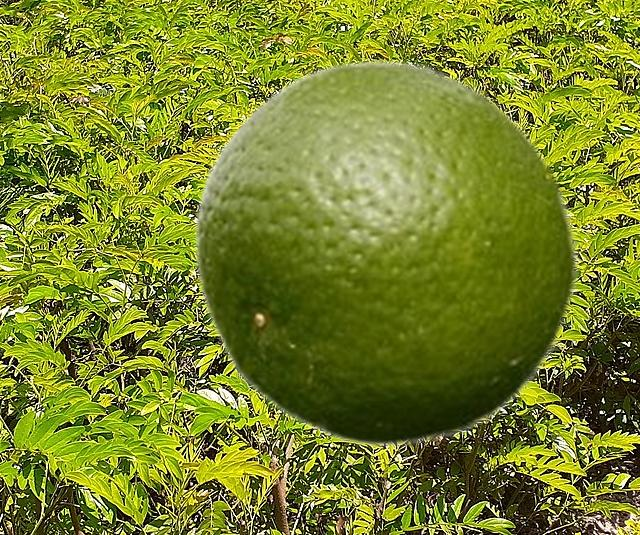calamansi: (193, 55, 579, 448)
